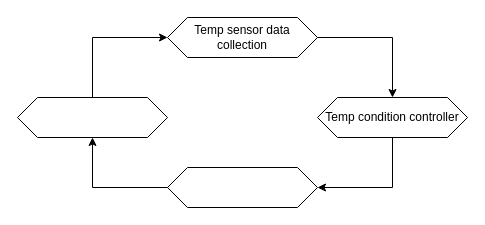
Image size: 485x225. Some labels were removed from this diagram. The shapes that lost their labels are listed below. From the top down, each one's box as (x1, y1, x2, y2) in pixels, then its label:
(16, 96, 168, 138): Software Alarm System
(166, 166, 318, 208): Watering controller
